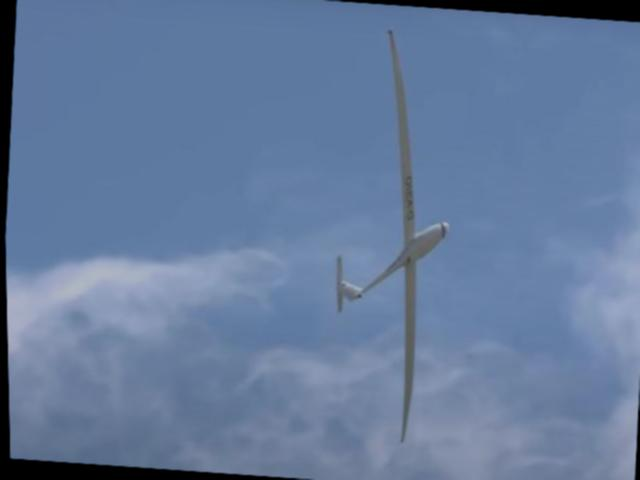iha: (311, 24, 467, 447)
